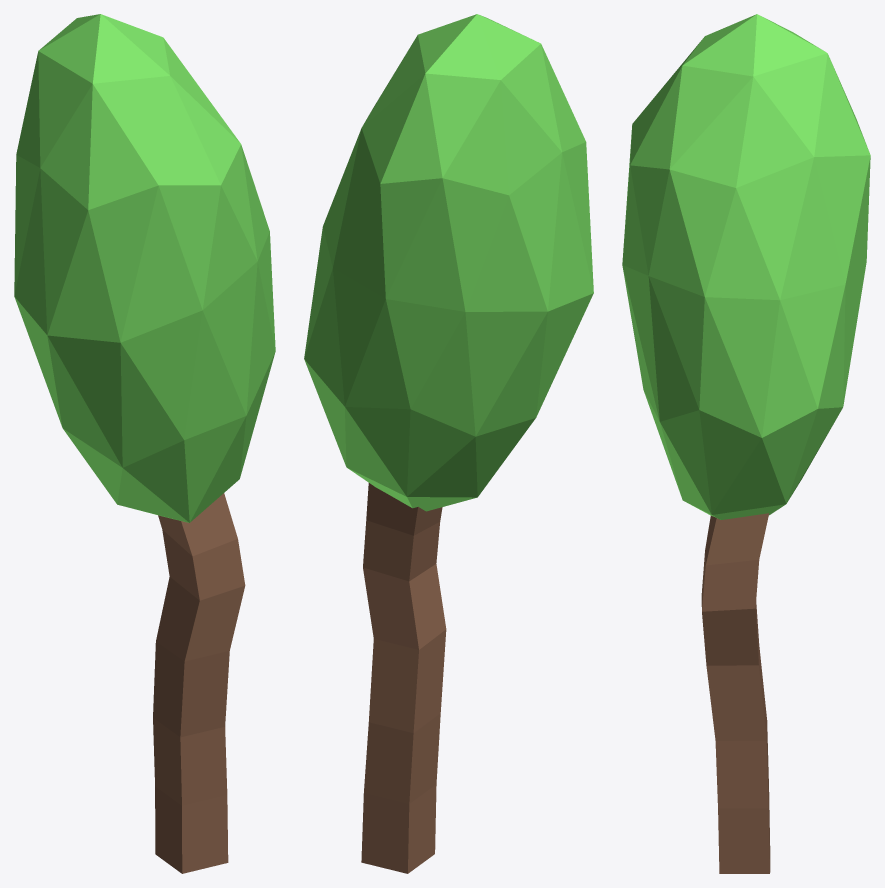
File: Tree2.fbx
The picture shows the model from 3 angles, left to right: view 1: azimuth 30°, elevation 25°; view 2: azimuth 150°, elevation 25°; view 3: azimuth 270°, elevation 25°; orthographic projection. The views are drawn at different scales.
Parts seen in each view (by area): view 1: Cube; view 2: Cube; view 3: Cube.
Part boxes in pixels (<box>): Cube: <box>14,14,275,873</box>; Cube: <box>304,14,593,873</box>; Cube: <box>622,14,870,873</box>.
Size of the model in its own units: 227 by 762 by 212.
